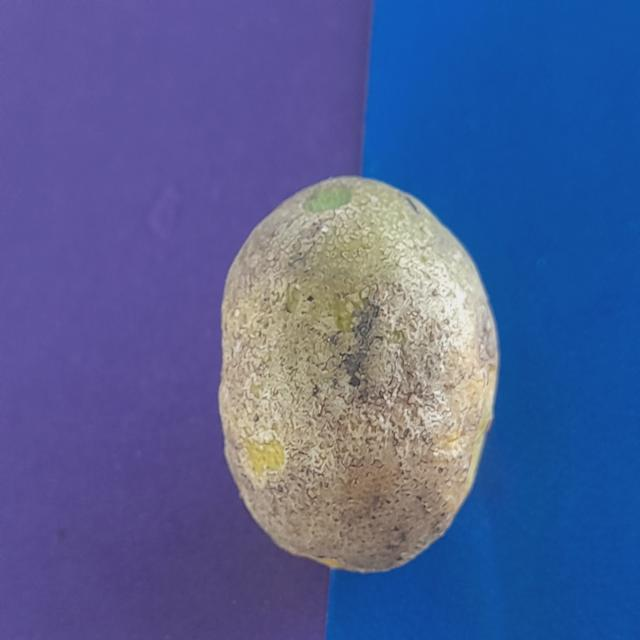thrips: (185, 162, 538, 612)
